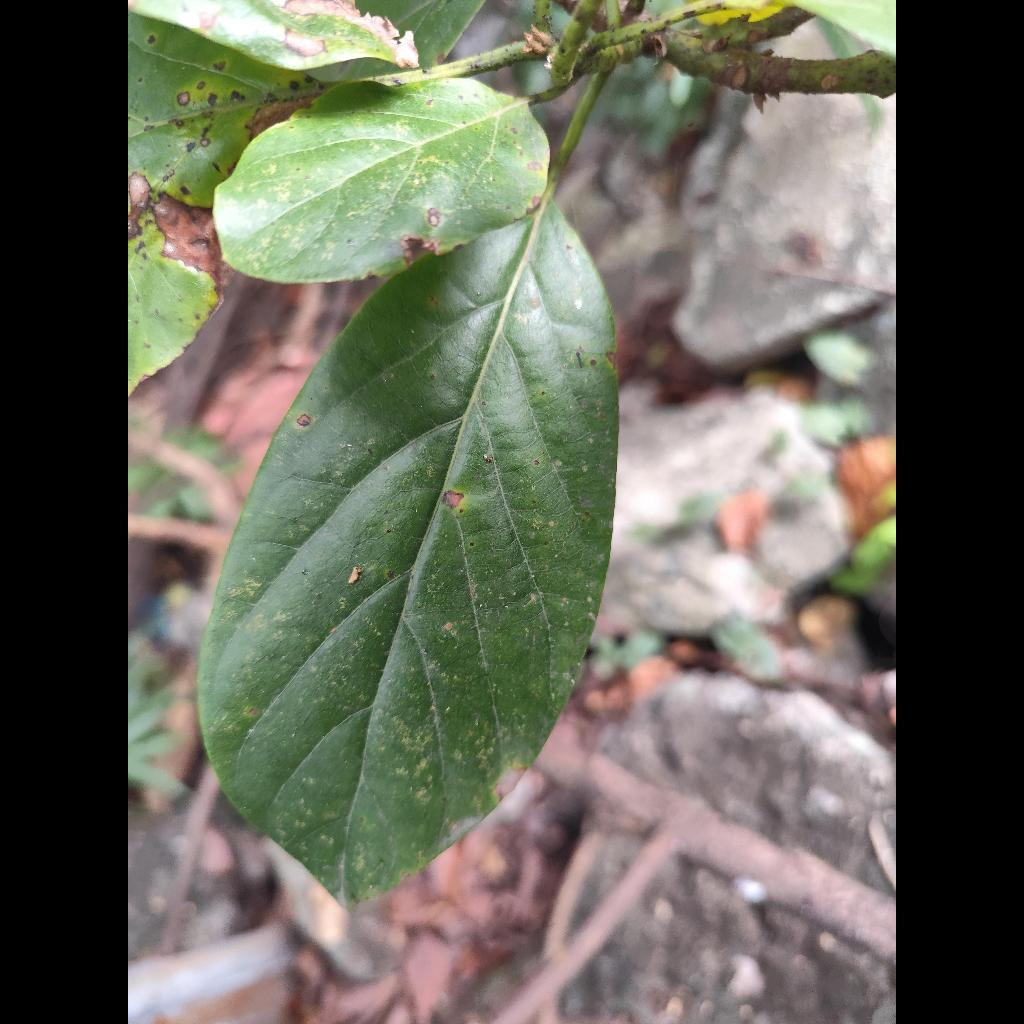Anthracnose: (199, 204, 618, 903)
